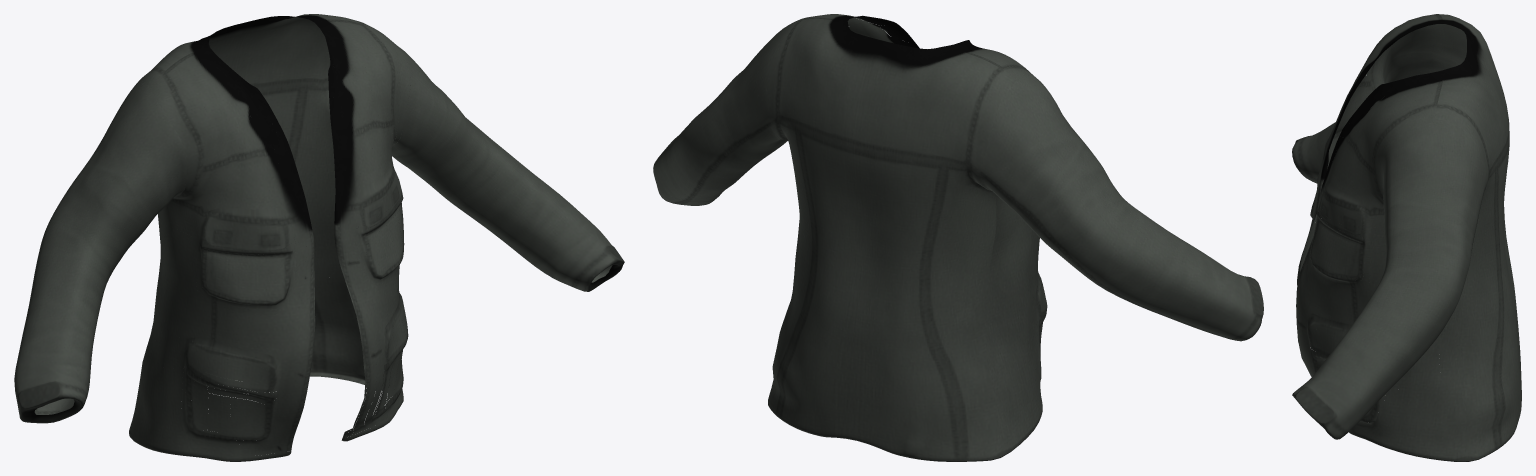
Rendered from ONFIT_Outer_BodyBuild_v9.glb.
3 renders of one model, left to right at view 1: azimuth 30°, elevation 25°; view 2: azimuth 150°, elevation 25°; view 3: azimuth 270°, elevation 25°, orthographic. The views are drawn at different scales.
Visible parts, largest first — view 1: ONFIT_Outer; view 2: ONFIT_Outer; view 3: ONFIT_Outer.
Part boxes in pixels (<box>): ONFIT_Outer: <box>14,14,624,461</box>; ONFIT_Outer: <box>653,14,1263,461</box>; ONFIT_Outer: <box>1292,14,1521,461</box>.
Bounding box in the file's own units: 1 × 0.6186 × 0.3547.
Materials: 1 (1 with a texture image).
